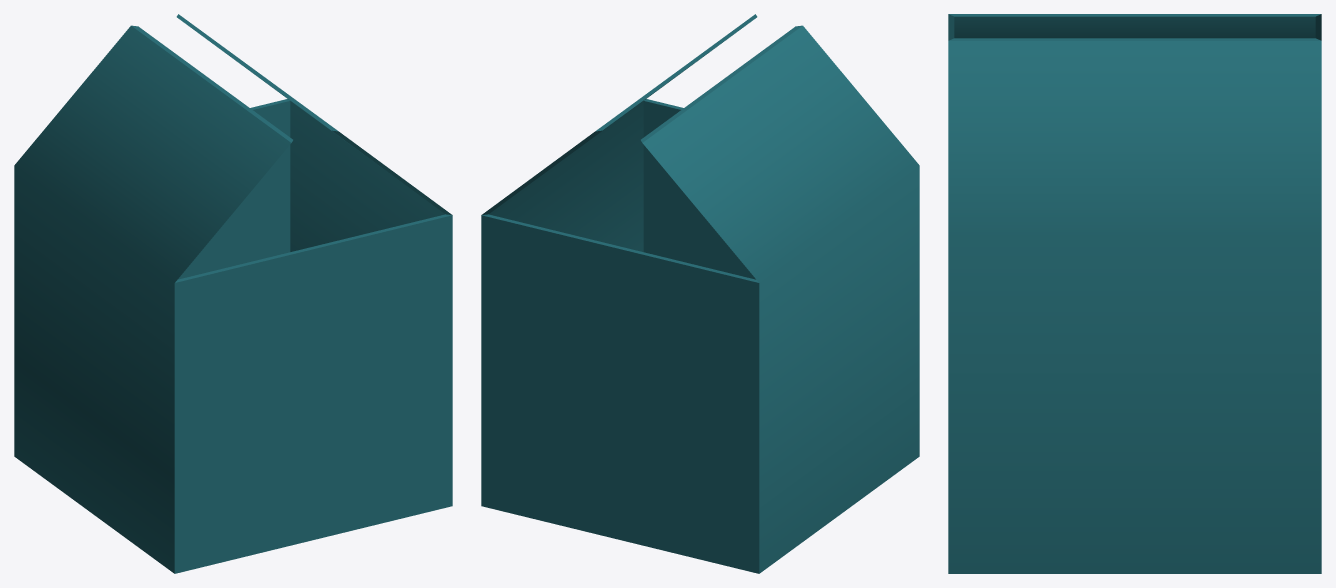
The model's file is Cardboard_Box_01.fbx.
The picture shows the model from 3 angles, left to right: view 1: azimuth 30°, elevation 25°; view 2: azimuth 150°, elevation 25°; view 3: azimuth 270°, elevation 25°; orthographic projection. The views are drawn at different scales.
Parts seen in each view (by area): view 1: Cardboard_Box_01; view 2: Cardboard_Box_01; view 3: Cardboard_Box_01.
Part boxes in pixels (x1,y1,x2,y2): Cardboard_Box_01: [14, 14, 452, 573]; Cardboard_Box_01: [481, 14, 919, 573]; Cardboard_Box_01: [948, 14, 1321, 573].
Size of the model in its own units: 276 by 382 by 276.
